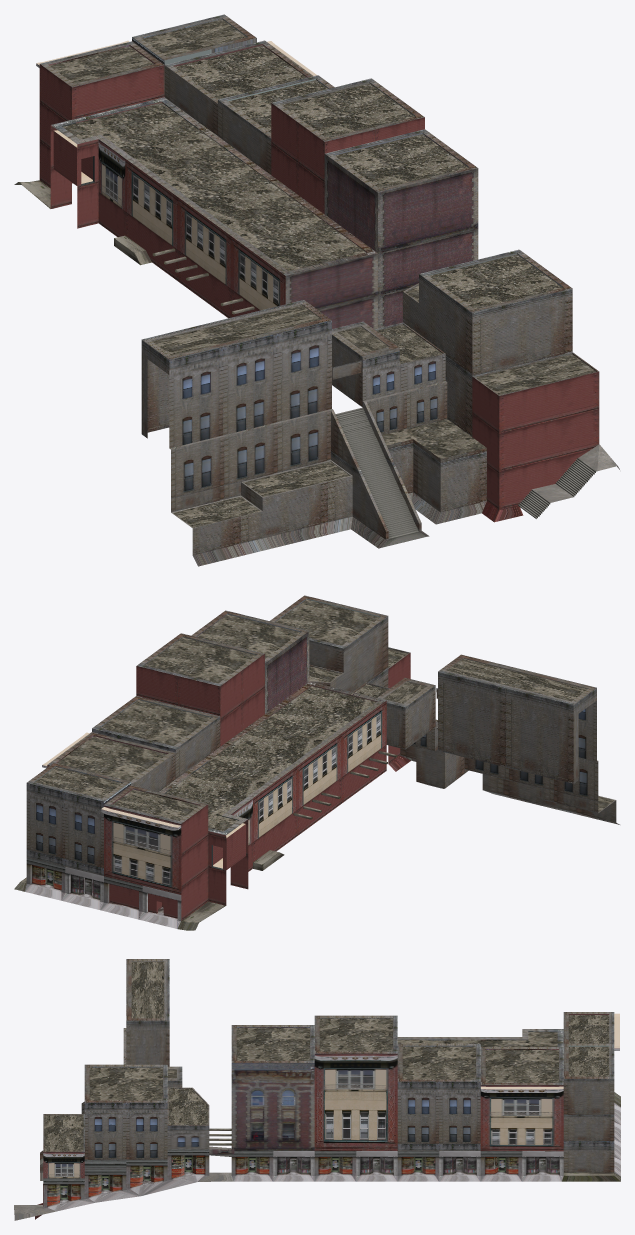
Rendered from chinatown_sfe1.obj.
3 renders of one model, top to bottom at view 1: azimuth 30°, elevation 25°; view 2: azimuth 150°, elevation 25°; view 3: azimuth 270°, elevation 25°, orthographic. The views are drawn at different scales.
Visible parts, largest first — view 1: chinatown_sfe1; view 2: chinatown_sfe1; view 3: chinatown_sfe1.
Boxes of the visible parts, x1,y1,x2,y2 form: chinatown_sfe1: (14,14,619,566); chinatown_sfe1: (14,595,619,930); chinatown_sfe1: (14,959,620,1220).
Bounding box in the file's own units: 68.11 × 42.11 × 120.
17 materials, 17 textured.
